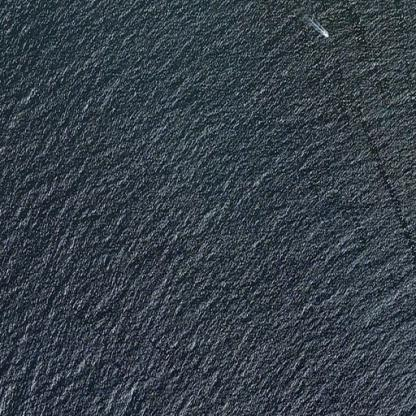ship: (315, 22, 334, 41)
